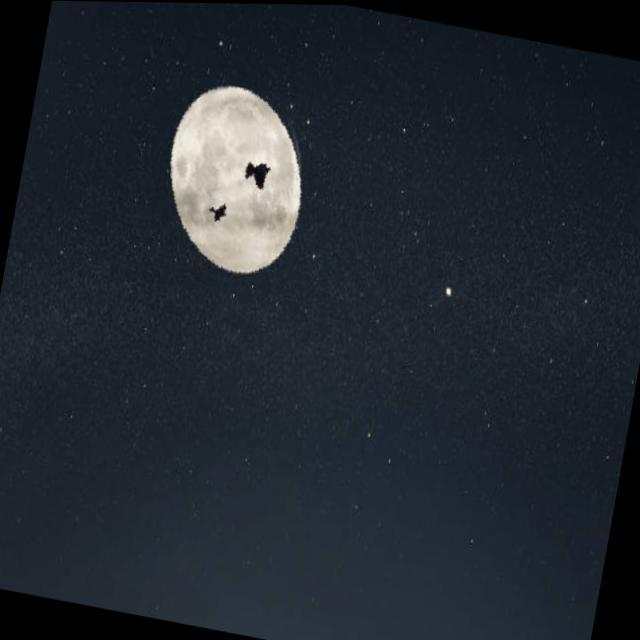moon: (119, 70, 322, 308)
